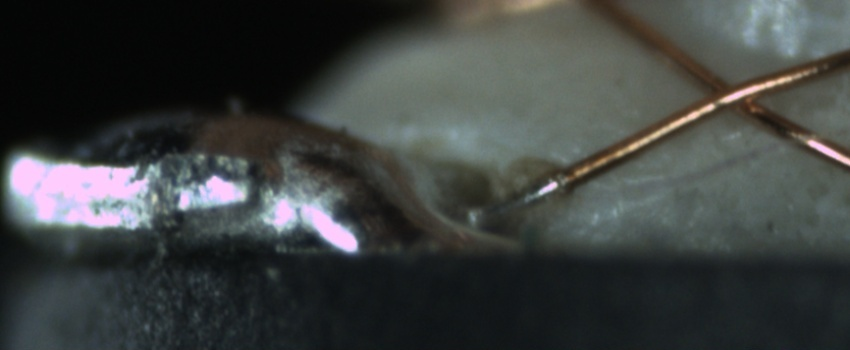CL: (681, 64, 788, 126)
TS: (467, 171, 561, 229)
TTCW: (471, 152, 601, 228)
